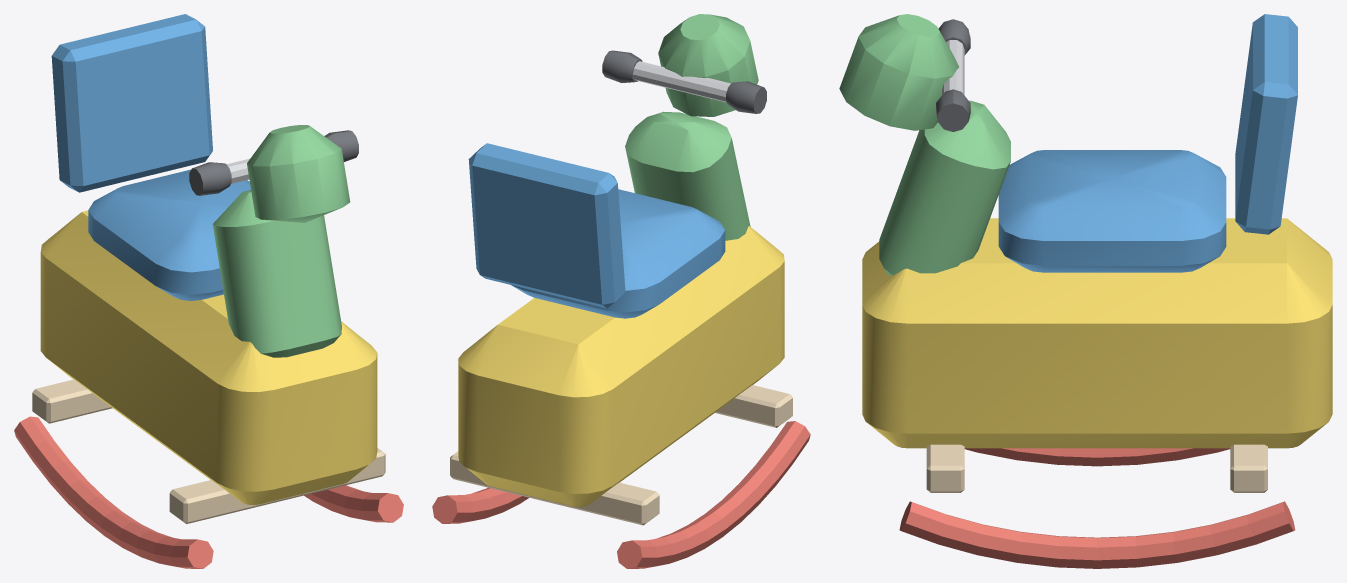
File: nursery-and-primary-classroom-rocking-toy-fce0d10d__35012.glb
The picture shows the model from 3 angles, left to right: view 1: azimuth 30°, elevation 25°; view 2: azimuth 150°, elevation 25°; view 3: azimuth 270°, elevation 25°; orthographic projection. The views are drawn at different scales.
Visible parts, largest first — view 1: rocker/yellow, rocker/blue, rocker/green, rocker/red, rocker/carcass, rocker/dark; view 2: rocker/yellow, rocker/blue, rocker/green, rocker/red, rocker/carcass, rocker/dark, rocker/metal; view 3: rocker/yellow, rocker/blue, rocker/green, rocker/red, rocker/carcass, rocker/dark, rocker/metal.
Part boxes in pixels (x1,y1,x2,y2): rocker/yellow: [40, 210, 377, 504]; rocker/blue: [51, 14, 250, 300]; rocker/green: [212, 125, 350, 357]; rocker/red: [14, 416, 403, 568]; rocker/carcass: [32, 379, 385, 523]; rocker/dark: [189, 130, 358, 195]; rocker/yellow: [458, 226, 784, 506]; rocker/blue: [468, 143, 725, 318]; rocker/green: [625, 14, 758, 240]; rocker/red: [432, 421, 810, 568]; rocker/carcass: [450, 385, 792, 525]; rocker/dark: [602, 50, 766, 113]; rocker/metal: [633, 61, 730, 102]; rocker/yellow: [862, 218, 1332, 448]; rocker/blue: [998, 14, 1297, 272]; rocker/green: [839, 14, 1010, 275]; rocker/red: [899, 448, 1295, 568]; rocker/carcass: [926, 444, 1267, 492]; rocker/dark: [936, 19, 970, 131]; rocker/metal: [942, 40, 964, 94].
Size of the model in its own units: 0.364 by 0.7243 by 0.6502.
